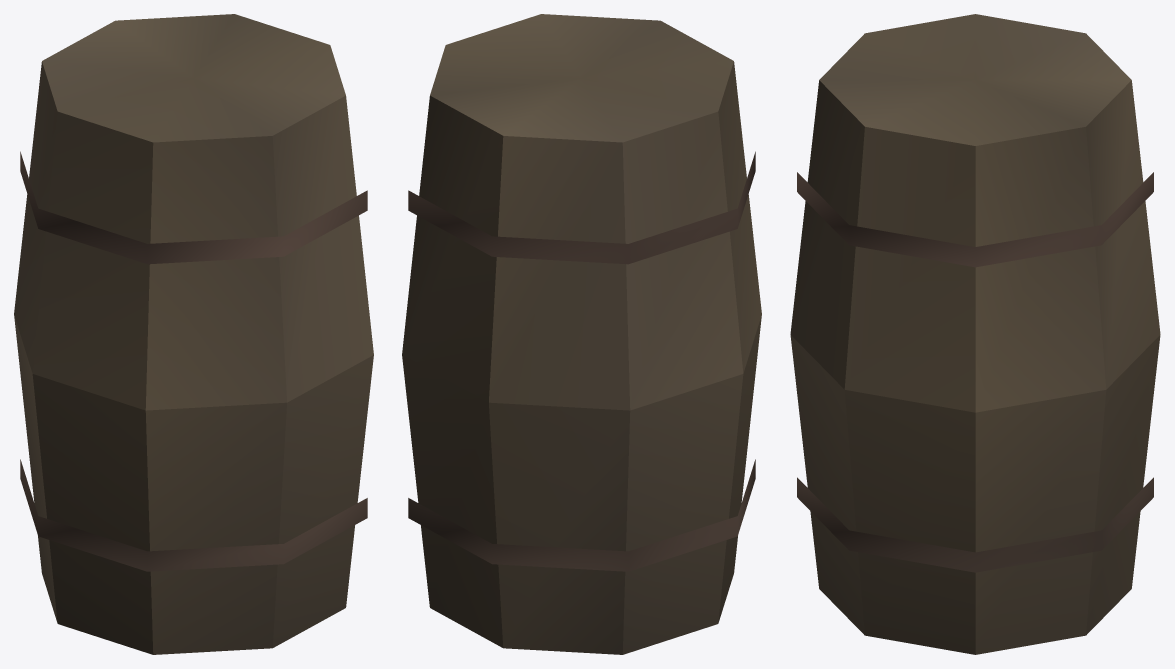
Rendered from m01_prop_barrel_wood_lod1.glb.
3 renders of one model, left to right at view 1: azimuth 30°, elevation 25°; view 2: azimuth 150°, elevation 25°; view 3: azimuth 270°, elevation 25°, orthographic.
Visible parts, largest first — view 1: barrel_wood; view 2: barrel_wood; view 3: barrel_wood.
Boxes of the visible parts, bbox=[...] form: barrel_wood: bbox=[14, 14, 373, 654]; barrel_wood: bbox=[402, 14, 761, 654]; barrel_wood: bbox=[790, 14, 1160, 654].
Size of the model in its own units: 0.58 by 0.88 by 0.58.
